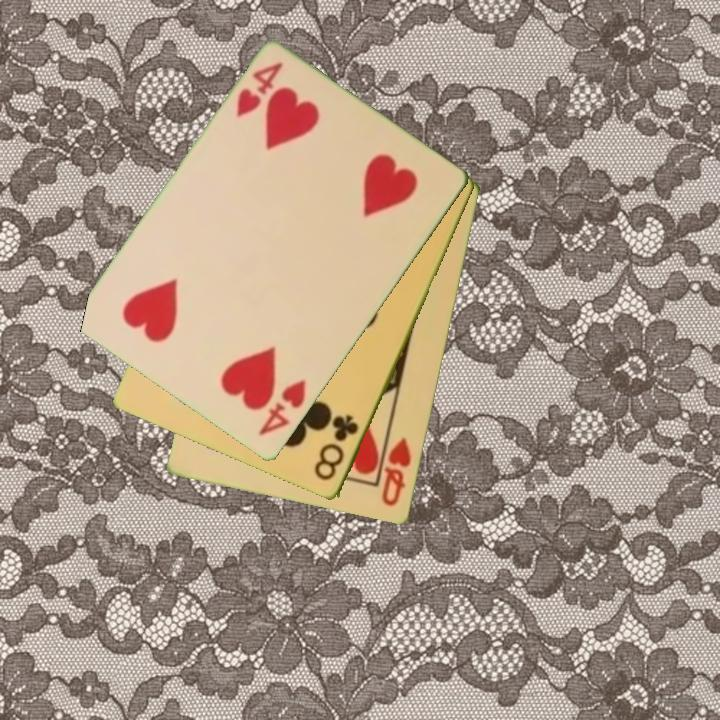4h: (254, 376, 309, 440), (232, 59, 287, 121)
8c: (311, 411, 362, 484)
Qh: (378, 434, 415, 510)
